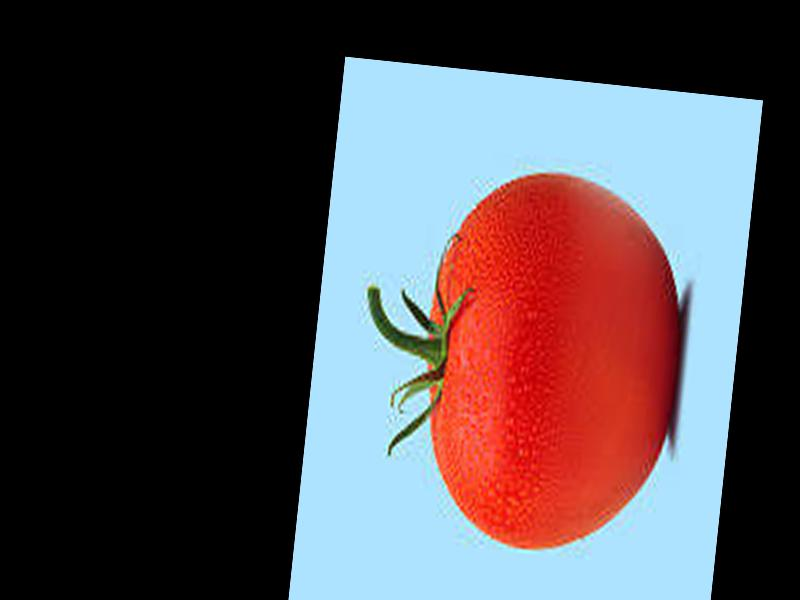Tomato: (409, 163, 691, 562)
